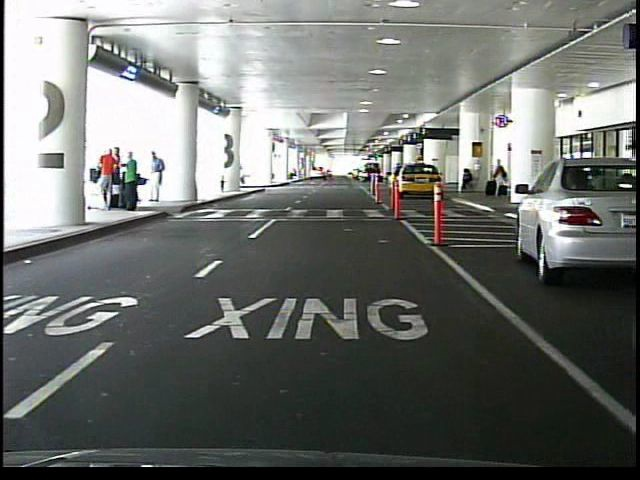person: (123, 152, 142, 214), (101, 148, 118, 211), (148, 153, 167, 207), (491, 160, 505, 199), (458, 170, 474, 197)
